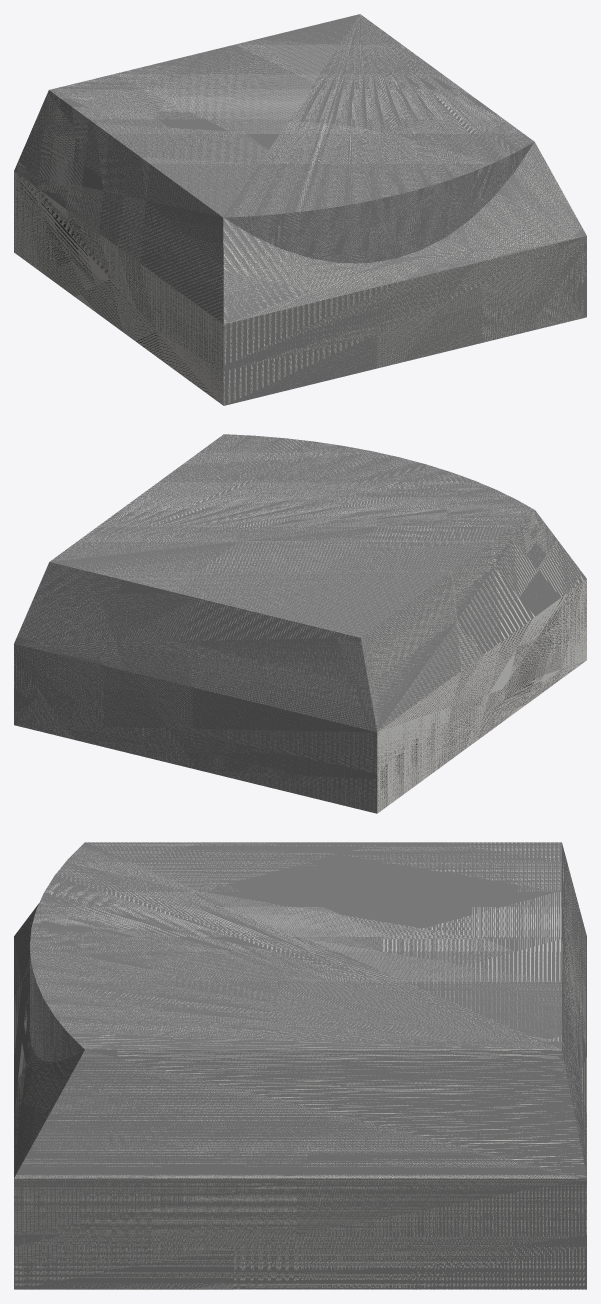
File: original-23.obj
3 views of the same model, one above another, from view 1: azimuth 30°, elevation 25°; view 2: azimuth 150°, elevation 25°; view 3: azimuth 270°, elevation 25° (orthographic). The views are drawn at different scales.
Visible parts, largest first — view 1: mesh12/mesh12-geometry#mesh12-geometry; view 2: mesh12/mesh12-geometry#mesh12-geometry; view 3: mesh12/mesh12-geometry#mesh12-geometry.
Boxes of the visible parts, bbox=[...] form: mesh12/mesh12-geometry#mesh12-geometry: bbox=[14, 14, 586, 405]; mesh12/mesh12-geometry#mesh12-geometry: bbox=[14, 434, 586, 813]; mesh12/mesh12-geometry#mesh12-geometry: bbox=[14, 842, 586, 1289].
Size of the model in its own units: 0.1221 by 0.0523 by 0.1221.
